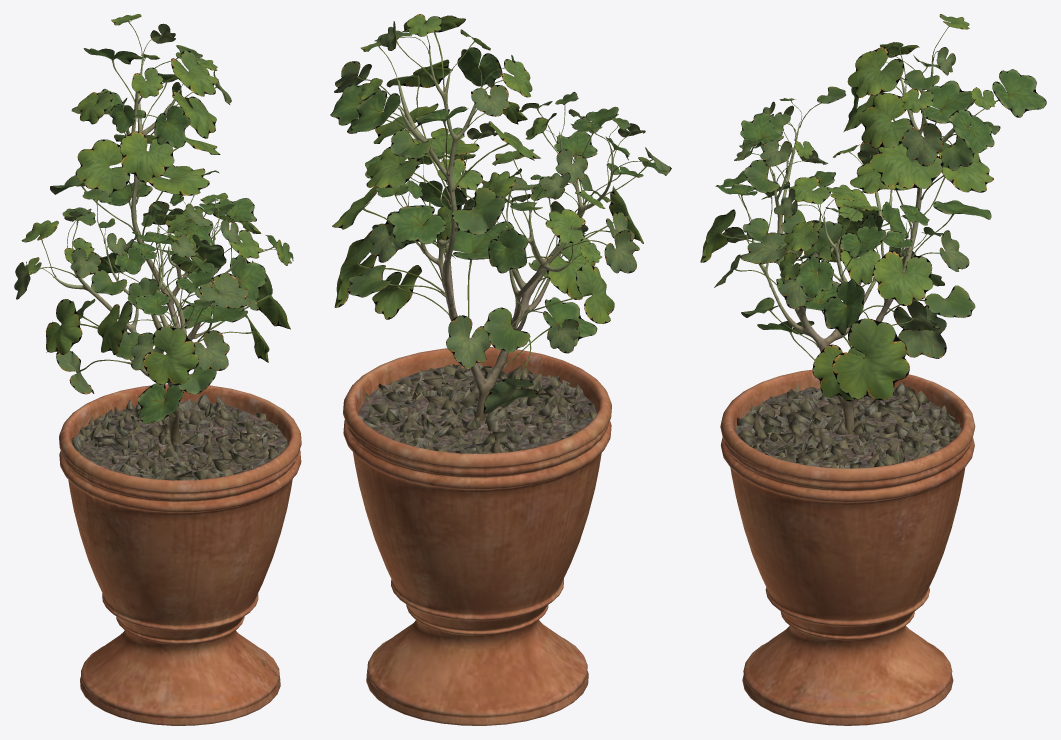
File: plant_tall.glb
3 renders of one model, left to right at view 1: azimuth 30°, elevation 25°; view 2: azimuth 150°, elevation 25°; view 3: azimuth 270°, elevation 25°, orthographic. The views are drawn at different scales.
Visible parts, largest first — view 1: potted_plant_01_pot, potted_plant_01_leaves, potted_plant_01_pebbles, potted_plant_01_stem; view 2: potted_plant_01_pot, potted_plant_01_leaves, potted_plant_01_pebbles, potted_plant_01_stem; view 3: potted_plant_01_pot, potted_plant_01_leaves, potted_plant_01_pebbles, potted_plant_01_stem.
Boxes of the visible parts, box(x1,y1,x2,y2) form: potted_plant_01_pot: box(59, 384, 301, 725); potted_plant_01_leaves: box(14, 14, 293, 423); potted_plant_01_pebbles: box(71, 394, 287, 480); potted_plant_01_stem: box(53, 54, 244, 445); potted_plant_01_pot: box(343, 347, 611, 725); potted_plant_01_leaves: box(330, 14, 671, 414); potted_plant_01_pebbles: box(358, 362, 596, 453); potted_plant_01_stem: box(397, 48, 613, 421); potted_plant_01_pot: box(720, 369, 975, 725); potted_plant_01_leaves: box(700, 14, 1046, 401); potted_plant_01_pebbles: box(735, 382, 961, 468); potted_plant_01_stem: box(751, 55, 966, 434).
Size of the model in its own units: 0.5877 by 1.34 by 0.6336.
Materials: 2 (2 with a texture image).
